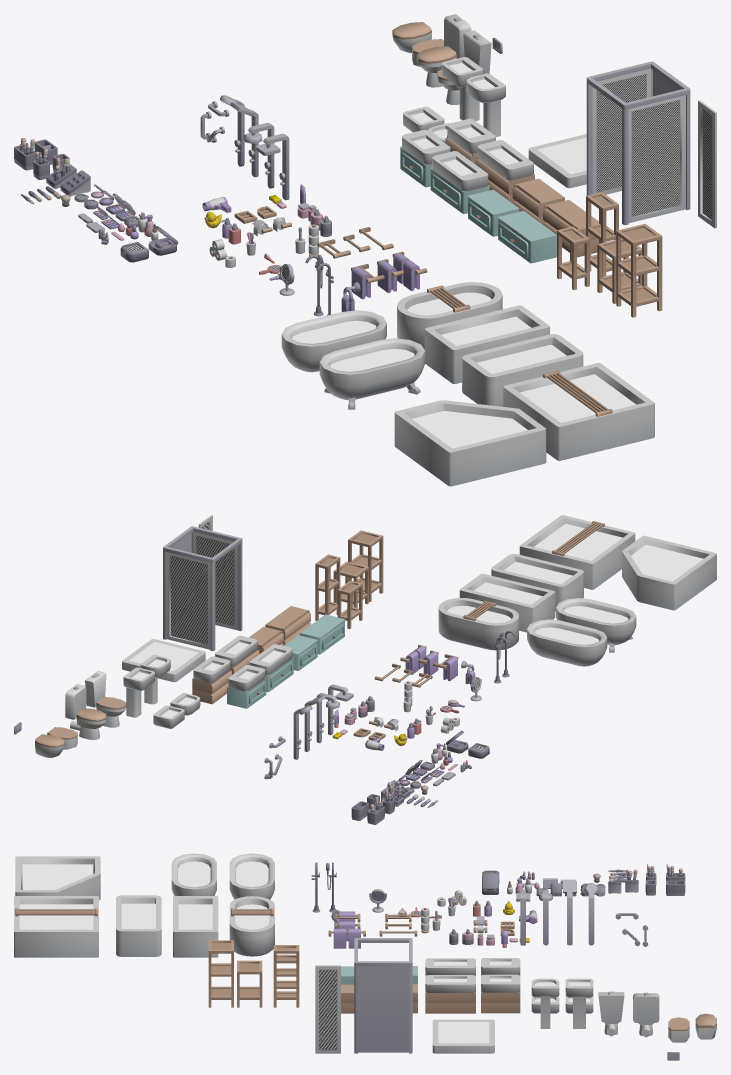
File: bathroom.glb
3 views of the same model, one above another, from view 1: azimuth 30°, elevation 25°; view 2: azimuth 150°, elevation 25°; view 3: azimuth 270°, elevation 25° (orthographic). The views are drawn at different scales.
Parts seen in each view (by area): view 1: shower-cabin, bath-square-corner, bath-square, bath-freestanding-feet, bath-rounded, bath-rectangle, bath-freestanding, cabinet-tall, bath-round (%thumbnail), (%ignore) (%no-merge) (%toggle) 5, (%ignore) (%no-merge) (%toggle) 6, shower-door (+25 smaller); view 2: shower-cabin, bath-square-corner, bath-square, bath-round (%thumbnail), bath-freestanding, bath-rectangle, bath-rounded, bath-freestanding-feet, shower-cabin-tray, (%ignore) (%no-merge) (%toggle) 6, (%ignore) (%no-merge) (%toggle) 5, toilet-rounded (+23 smaller); view 3: shower-cabin, bath-square, shower-door, shower-cabin-tray, bath-square-corner, bath-rounded, bath-rectangle, sink-hanging-cabinets-double (%wall), bath-round (%thumbnail), (%ignore) (%no-merge) (%toggle) 5, (%ignore) (%no-merge) (%toggle) 6, sink-hanging-cabinets (%wall) (+27 smaller).
Boxes of the visible parts, <box> form: shower-cabin: <box>586,61,690,225</box>; bath-square-corner: <box>394,400,546,486</box>; bath-square: <box>503,363,654,460</box>; bath-freestanding-feet: <box>319,338,425,409</box>; bath-rounded: <box>462,334,583,406</box>; bath-rectangle: <box>424,305,549,383</box>; bath-freestanding: <box>281,310,386,372</box>; cabinet-tall: <box>616,223,662,317</box>; bath-round (%thumbnail): <box>397,282,502,349</box>; (%ignore) (%no-merge) (%toggle) 5: <box>520,374,635,422</box>; (%ignore) (%no-merge) (%toggle) 6: <box>412,411,527,448</box>; shower-door: <box>698,100,716,228</box>; shower-cabin: <box>163,526,242,650</box>; bath-square-corner: <box>622,535,716,610</box>; bath-square: <box>519,515,635,589</box>; bath-round (%thumbnail): <box>438,598,518,650</box>; bath-freestanding: <box>527,619,607,666</box>; bath-rectangle: <box>459,573,555,632</box>; bath-rounded: <box>491,553,583,611</box>; bath-freestanding-feet: <box>556,598,636,652</box>; shower-cabin-tray: <box>122,639,205,681</box>; (%ignore) (%no-merge) (%toggle) 6: <box>631,544,703,581</box>; (%ignore) (%no-merge) (%toggle) 5: <box>534,523,622,560</box>; toilet-rounded: <box>65,684,106,739</box>; shower-cabin: <box>354,938,412,1053</box>; bath-square: <box>14,896,98,957</box>; shower-door: <box>315,965,340,1053</box>; shower-cabin-tray: <box>432,1019,494,1053</box>; bath-square-corner: <box>15,856,100,900</box>; bath-rounded: <box>116,895,161,956</box>; bath-rectangle: <box>173,896,218,957</box>; sink-hanging-cabinets-double (%wall): <box>425,975,475,1013</box>; bath-round (%thumbnail): <box>229,896,274,956</box>; (%ignore) (%no-merge) (%toggle) 5: <box>19,904,93,929</box>; (%ignore) (%no-merge) (%toggle) 6: <box>22,864,93,889</box>; sink-hanging-cabinets (%wall): <box>481,974,520,1013</box>.
Size of the model in its own units: 7.85 by 1.89 by 12.39.
5 materials, 2 textured.
